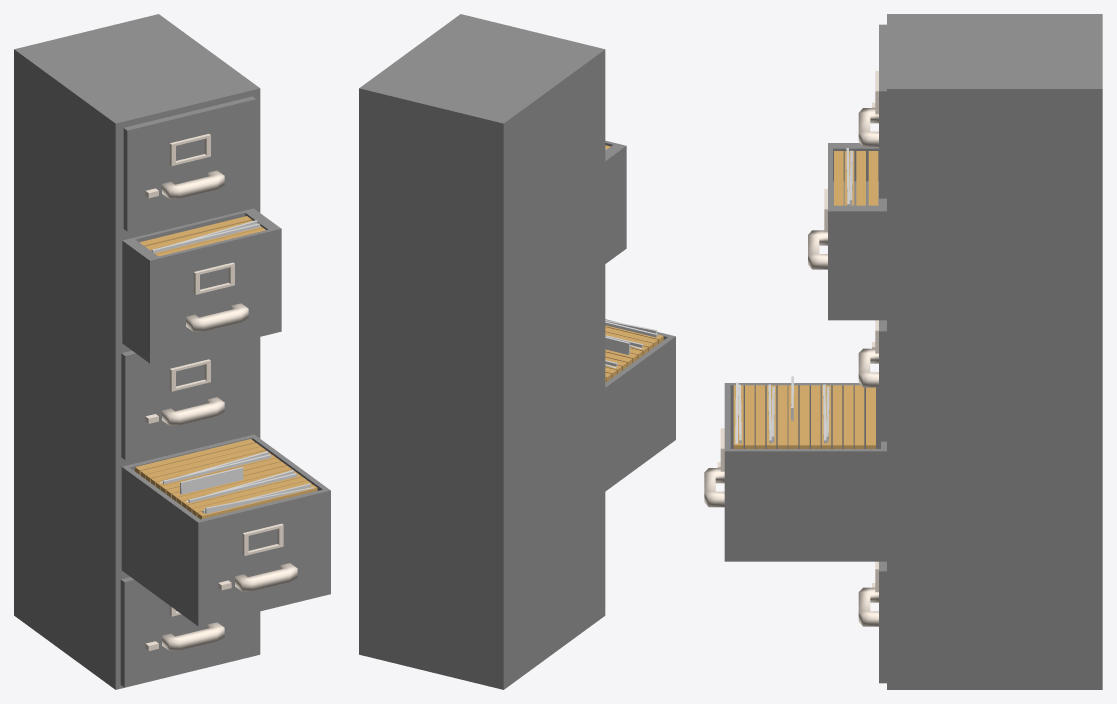
Rendered from OpenFileCabinet.fbx.
3 views of the same model, side by side, from view 1: azimuth 30°, elevation 25°; view 2: azimuth 150°, elevation 25°; view 3: azimuth 270°, elevation 25° (orthographic). The views are drawn at different scales.
Parts seen in each view (by area): view 1: Cube; view 2: Cube; view 3: Cube.
Boxes of the visible parts, x1=… form: Cube: x1=14, y1=14, x2=330, y2=689; Cube: x1=359, y1=14, x2=675, y2=689; Cube: x1=704, y1=14, x2=1102, y2=689.
Bounding box in the file's own units: 231 × 865 × 520.
